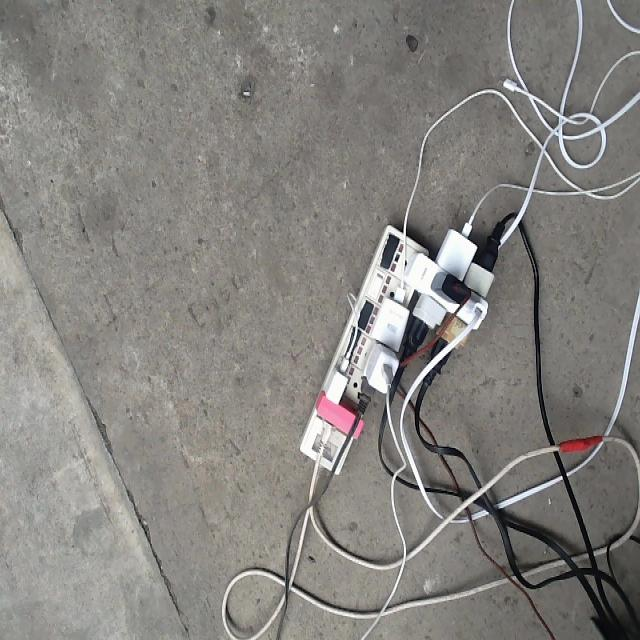-: (299, 220, 499, 475)
